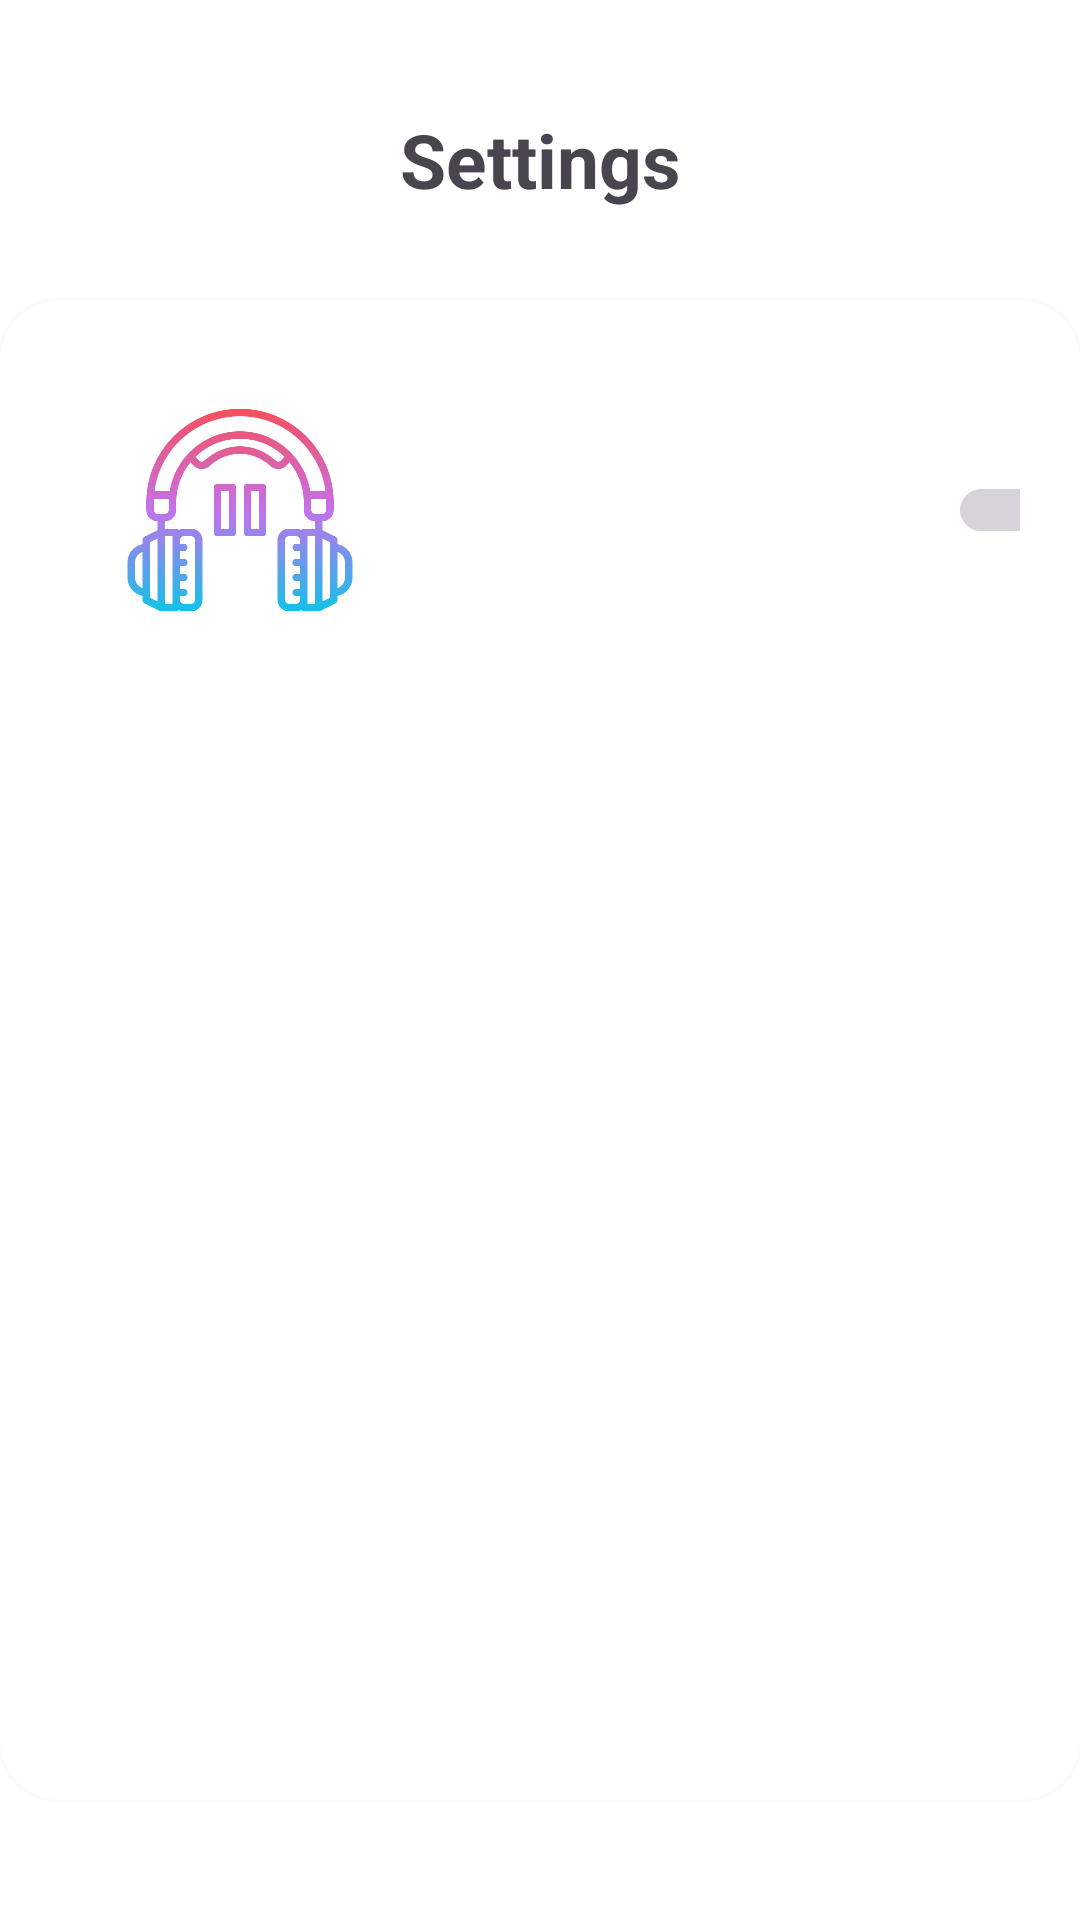

Where icons sit on this 1080x1920 app screen, as (x1,y1,x2,y2):
music: (127,409,353,611)
